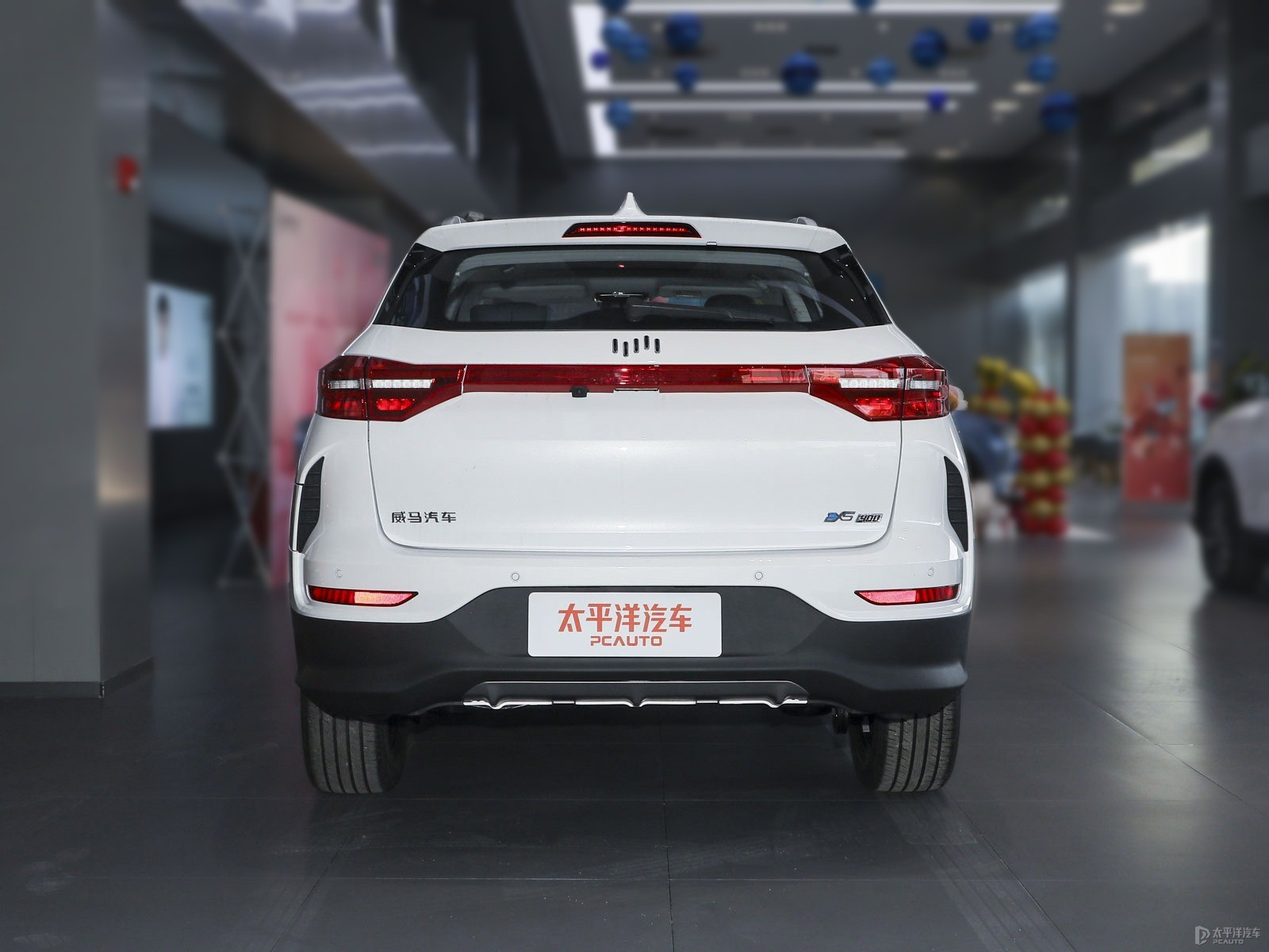WELTMEISTER: (612, 336, 660, 356)
